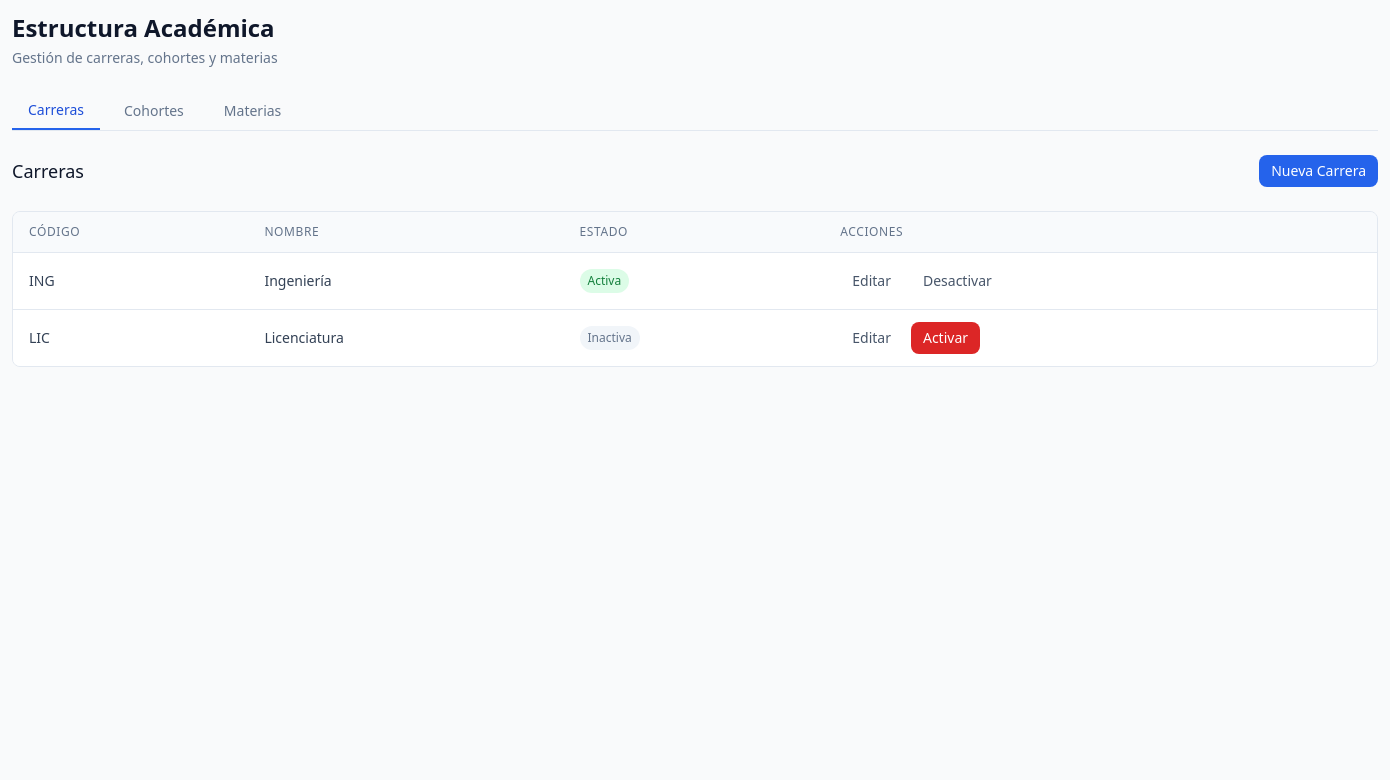
Test: EstructuraAcademicaPage › abre formulario de nueva carrera
Click the button "Nueva Carrera" at coordinates (1319, 171), box [1259,155,1378,187]
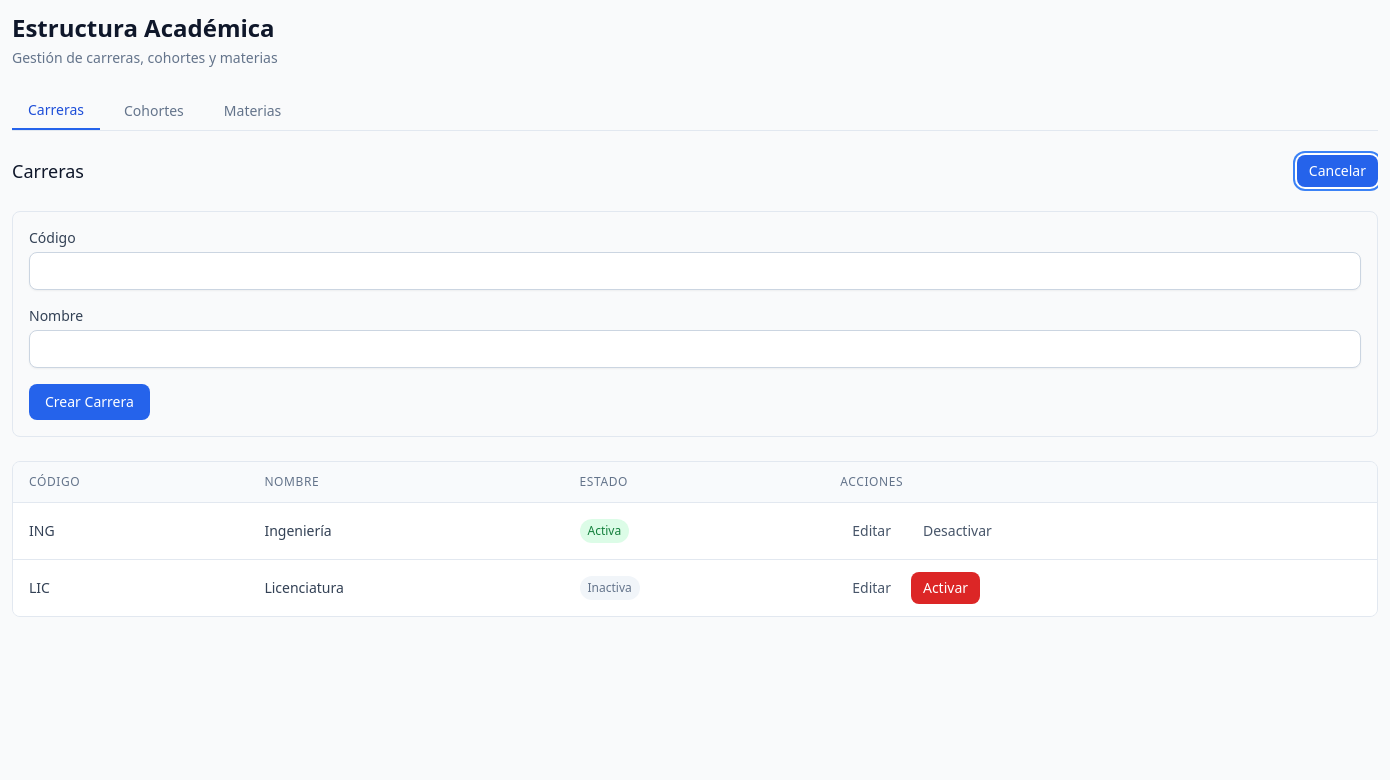
expect the field labelled "Código" is shown: met, box [29,252,1361,290]
expect the field labelled "Nombre" is shown: met, box [29,330,1361,368]
